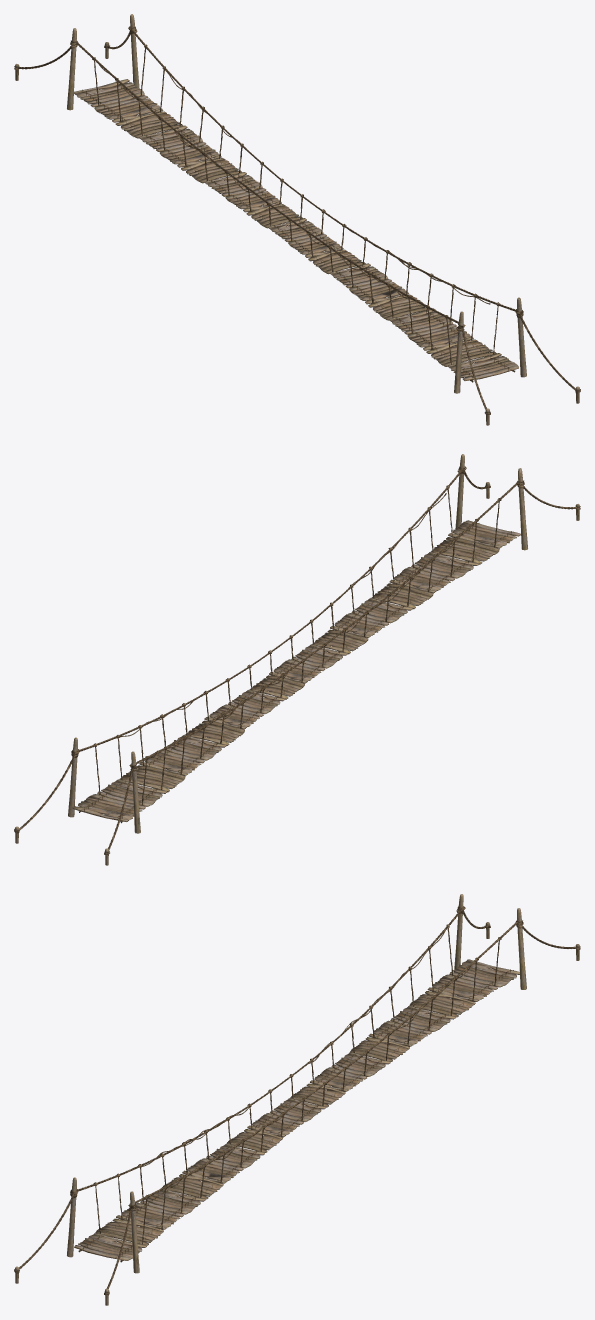
File: AEG004_544-transformed.glb
3 views of the same model, one above another, from view 1: azimuth 30°, elevation 25°; view 2: azimuth 150°, elevation 25°; view 3: azimuth 330°, elevation 25° (orthographic).
Visible parts, largest first — view 1: default; view 2: default; view 3: default.
Part boxes in pixels (x1,y1,x2,y2): default: (14, 14, 580, 425); default: (14, 454, 580, 865); default: (14, 894, 580, 1305).
Bounding box in the file's own units: 10.26 × 8.12 × 87.98.
Materials: 2 (2 with a texture image).
